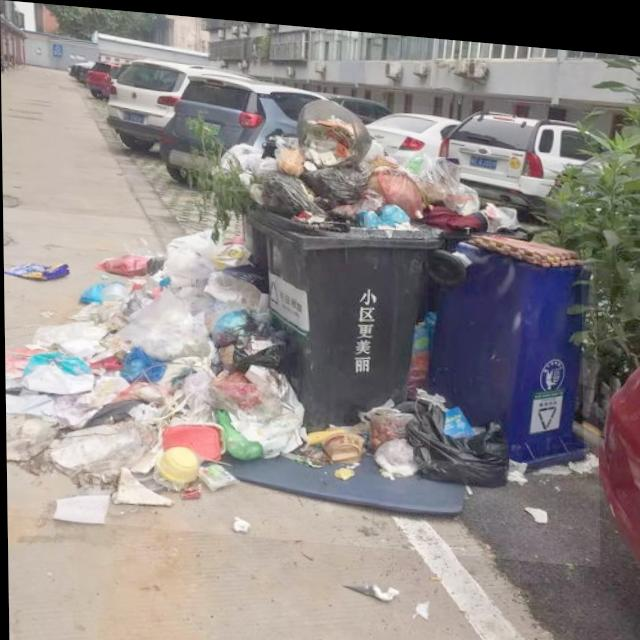garbage: (3, 208, 599, 556)
overflow: (188, 82, 444, 431), (425, 145, 583, 463)
